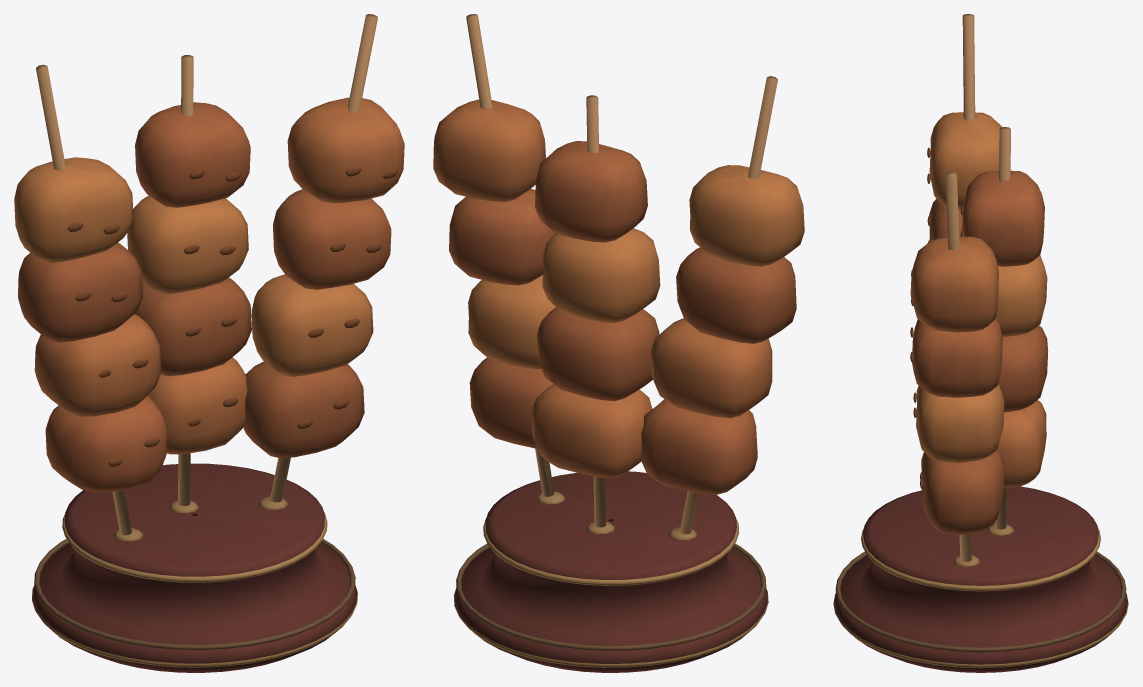
The model's file is chicken-skewer.glb.
The picture shows the model from 3 angles, left to right: view 1: azimuth 30°, elevation 25°; view 2: azimuth 150°, elevation 25°; view 3: azimuth 270°, elevation 25°; orthographic projection. The views are drawn at different scales.
Parts seen in each view (by area): view 1: Shared_oxblood_pedestal, Left_glazed_chicken_4, Right_glazed_chicken_4, Middle_glazed_chicken_4, Right_glazed_chicken_2, Right_glazed_chicken_3, Left_glazed_chicken_3, Middle_glazed_chicken_3, Left_glazed_chicken_2, Right_glazed_chicken_1, Left_glazed_chicken_1, Middle_glazed_chicken_2 (+7 smaller); view 2: Shared_oxblood_pedestal, Left_glazed_chicken_4, Right_glazed_chicken_4, Middle_glazed_chicken_4, Left_glazed_chicken_2, Middle_glazed_chicken_3, Left_glazed_chicken_3, Middle_glazed_chicken_2, Left_glazed_chicken_1, Middle_glazed_chicken_1, Right_glazed_chicken_3, Right_glazed_chicken_2 (+7 smaller); view 3: Shared_oxblood_pedestal, Right_glazed_chicken_4, Middle_glazed_chicken_4, Right_glazed_chicken_3, Right_glazed_chicken_1, Right_glazed_chicken_2, Left_glazed_chicken_4, Middle_glazed_chicken_2, Middle_glazed_chicken_3, Middle_glazed_chicken_1, Shared_recessed_dark_band, Shared_upper_antique_brass_molding (+5 smaller).
Part boxes in pixels (bbox=[...]): Shared_oxblood_pedestal: bbox=[32, 463, 357, 672]; Left_glazed_chicken_4: bbox=[14, 157, 133, 262]; Right_glazed_chicken_4: bbox=[287, 97, 404, 203]; Middle_glazed_chicken_4: bbox=[135, 102, 250, 207]; Right_glazed_chicken_2: bbox=[251, 274, 373, 376]; Right_glazed_chicken_3: bbox=[273, 189, 391, 289]; Left_glazed_chicken_3: bbox=[18, 242, 143, 342]; Middle_glazed_chicken_3: bbox=[127, 195, 248, 294]; Left_glazed_chicken_2: bbox=[34, 314, 161, 416]; Right_glazed_chicken_1: bbox=[243, 361, 364, 458]; Left_glazed_chicken_1: bbox=[45, 395, 167, 492]; Middle_glazed_chicken_2: bbox=[134, 277, 251, 376]; Shared_oxblood_pedestal: bbox=[454, 471, 767, 672]; Left_glazed_chicken_4: bbox=[689, 165, 804, 266]; Right_glazed_chicken_4: bbox=[433, 99, 545, 201]; Middle_glazed_chicken_4: bbox=[535, 141, 647, 242]; Left_glazed_chicken_2: bbox=[650, 318, 772, 418]; Middle_glazed_chicken_3: bbox=[542, 228, 660, 322]; Left_glazed_chicken_3: bbox=[676, 247, 796, 343]; Middle_glazed_chicken_2: bbox=[537, 307, 659, 401]; Left_glazed_chicken_1: bbox=[641, 399, 757, 494]; Middle_glazed_chicken_1: bbox=[531, 383, 652, 478]; Right_glazed_chicken_3: bbox=[449, 188, 555, 285]; Right_glazed_chicken_2: bbox=[468, 275, 555, 368]; Shared_oxblood_pedestal: bbox=[834, 486, 1127, 672]; Right_glazed_chicken_4: bbox=[910, 236, 998, 332]; Middle_glazed_chicken_4: bbox=[962, 170, 1044, 266]; Right_glazed_chicken_3: bbox=[912, 318, 1002, 397]; Right_glazed_chicken_1: bbox=[921, 449, 1004, 534]; Right_glazed_chicken_2: bbox=[916, 383, 1004, 462]; Left_glazed_chicken_4: bbox=[929, 112, 1001, 209]; Middle_glazed_chicken_2: bbox=[998, 325, 1048, 412]; Middle_glazed_chicken_3: bbox=[995, 255, 1047, 336]; Middle_glazed_chicken_1: bbox=[997, 400, 1046, 488]; Shared_recessed_dark_band: bbox=[835, 551, 1126, 652]; Shared_upper_antique_brass_molding: bbox=[861, 528, 1100, 591].
Size of the model in its own units: 1.07 by 1.65 by 0.824.
